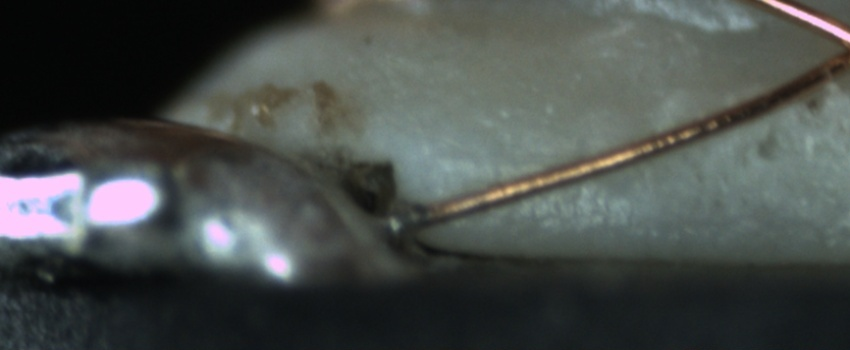CL: (807, 11, 850, 84)
DL: (432, 128, 549, 195)
